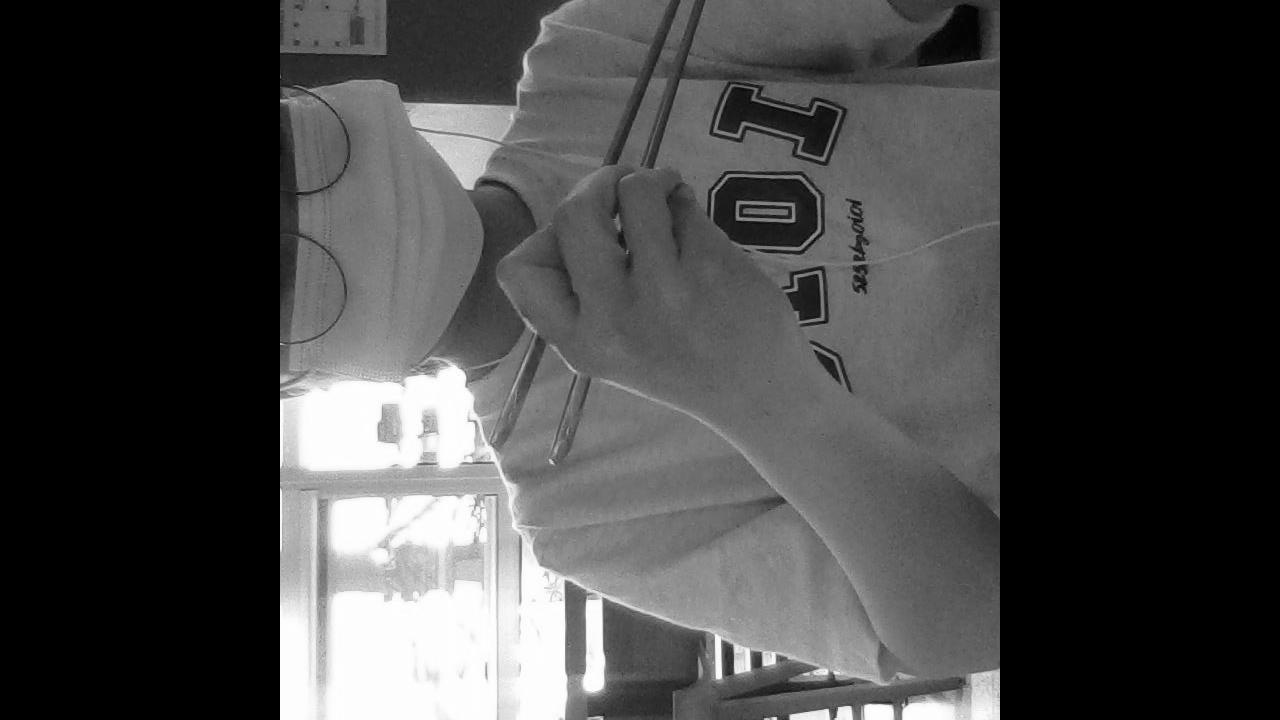chopstick: (484, 0, 700, 457), (545, 0, 723, 467)
hand: (497, 157, 804, 415)
